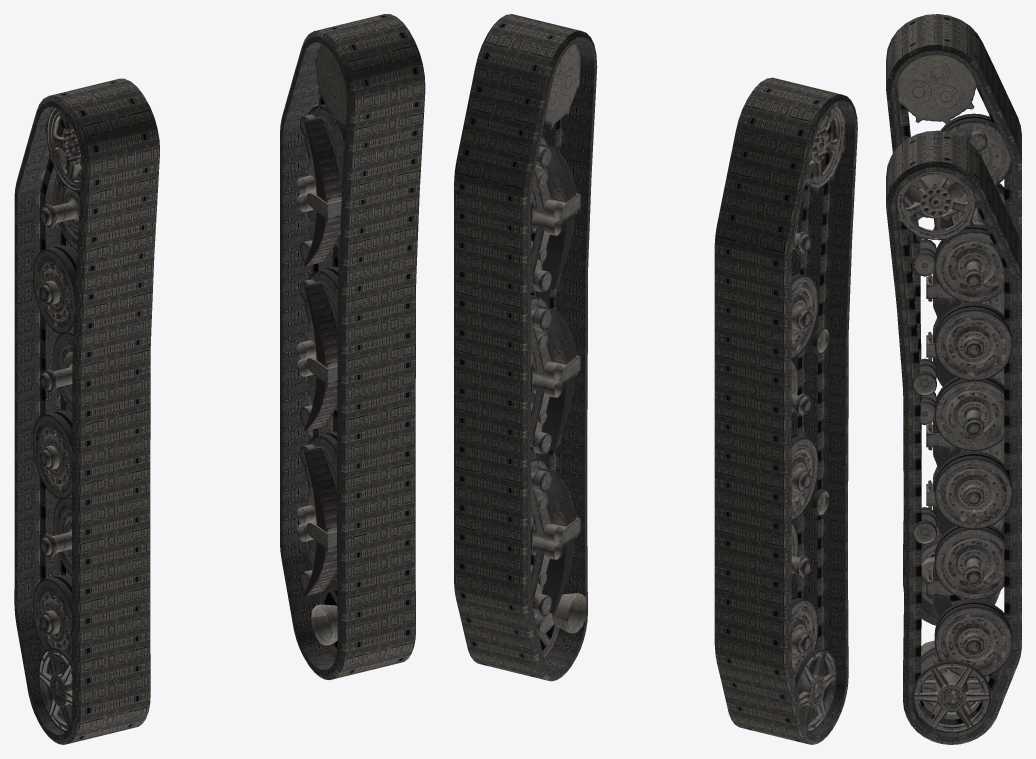
Rendered from Chassis.glb.
The picture shows the model from 3 angles, left to right: view 1: azimuth 30°, elevation 25°; view 2: azimuth 150°, elevation 25°; view 3: azimuth 270°, elevation 25°; orthographic projection. The views are drawn at different scales.
Visible parts, largest first — view 1: set_1_group_0, set_0_group_0, set_3_group_0, set_2_group_0; view 2: set_1_group_0, set_0_group_0, set_3_group_0, set_2_group_0; view 3: set_3_group_0, set_0_group_0, set_2_group_0, set_1_group_0.
Boxes of the visible parts, left/top/right/bottom form: set_1_group_0: left=14, top=78, right=159, bottom=744; set_0_group_0: left=280, top=14, right=425, bottom=680; set_3_group_0: left=297, top=44, right=346, bottom=657; set_2_group_0: left=33, top=107, right=81, bottom=732; set_1_group_0: left=714, top=77, right=857, bottom=744; set_0_group_0: left=454, top=14, right=597, bottom=681; set_3_group_0: left=531, top=44, right=587, bottom=659; set_2_group_0: left=791, top=106, right=845, bottom=732; set_3_group_0: left=896, top=171, right=1011, bottom=733; set_0_group_0: left=886, top=130, right=1021, bottom=744; set_2_group_0: left=896, top=55, right=1011, bottom=605; set_1_group_0: left=886, top=14, right=1021, bottom=625.
Bounding box in the file's own units: 3.61 × 6.56 × 1.38.
4 materials, 4 textured.
